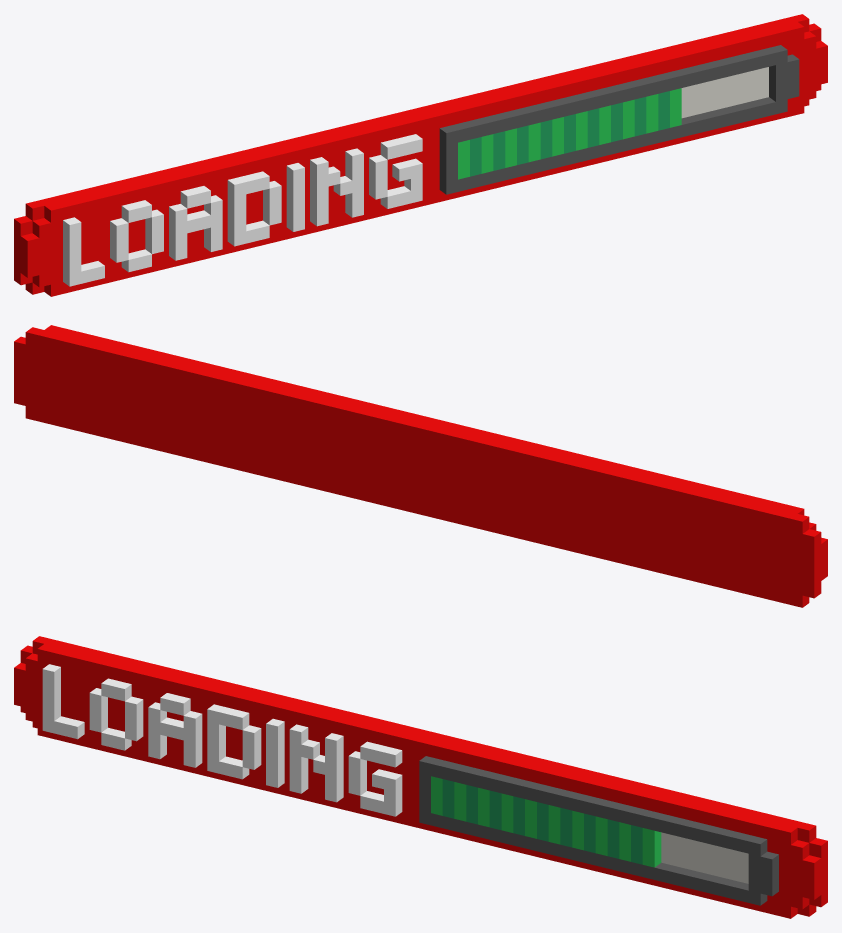
Rendered from loading_6.obj.
The picture shows the model from 3 angles, top to bottom: view 1: azimuth 30°, elevation 25°; view 2: azimuth 150°, elevation 25°; view 3: azimuth 330°, elevation 25°; orthographic projection.
Parts seen in each view (by area): view 1: loading_6; view 2: loading_6; view 3: loading_6.
Part boxes in pixels (x1,y1,x2,y2): loading_6: (14,14,827,296); loading_6: (14,325,827,607); loading_6: (14,636,827,918).
Bounding box in the file's own units: 68 × 7 × 3.
1 material, 1 textured.
